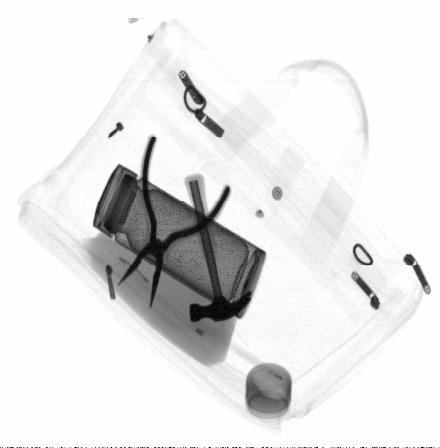Hammer: (184, 174, 252, 325)
Pliers: (117, 134, 232, 311)
